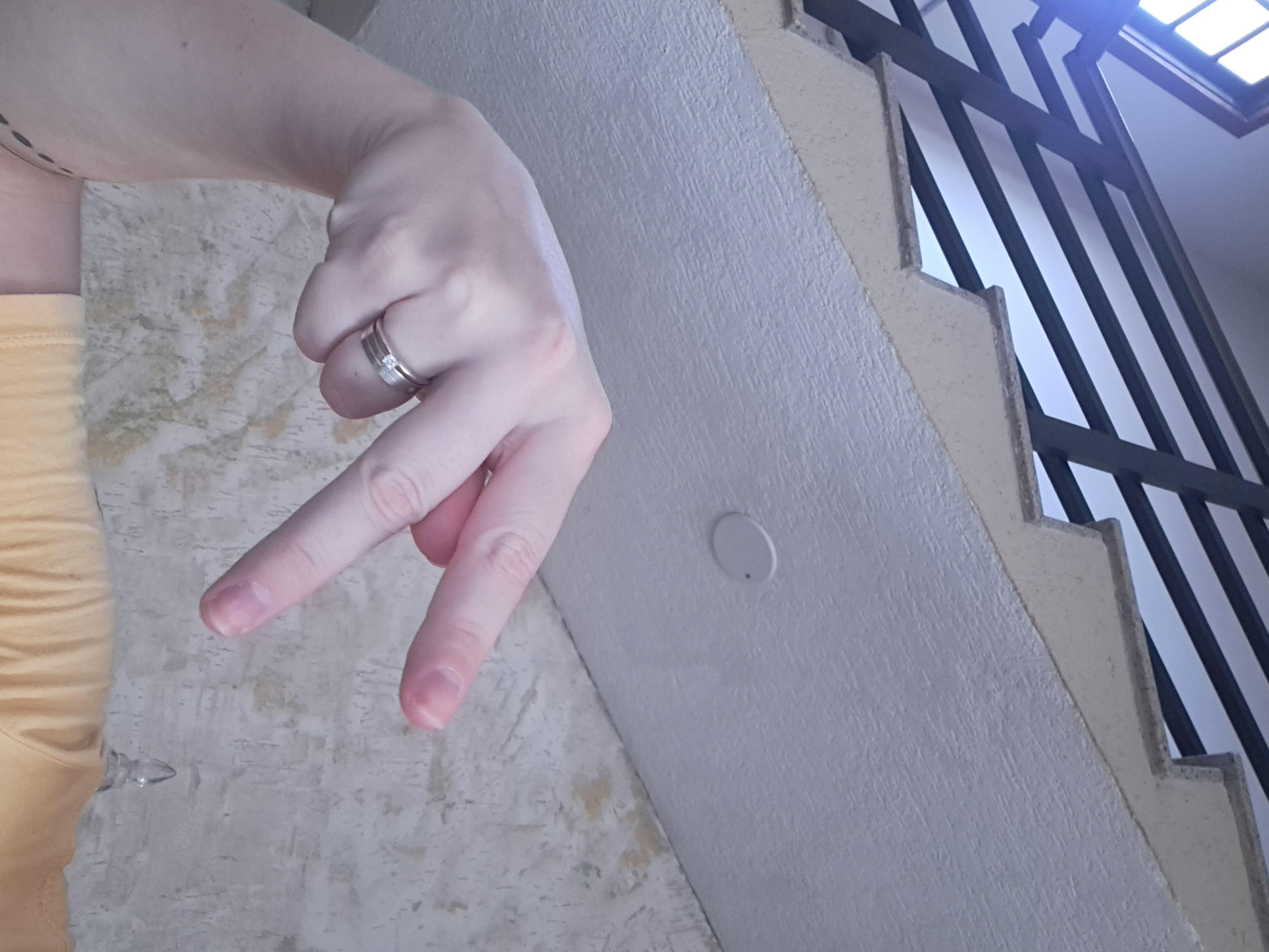P: (130, 484, 1000, 822)
